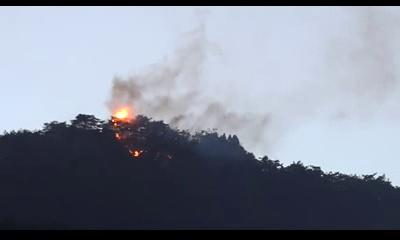fire: (114, 110, 128, 122)
smoke: (113, 84, 142, 101)
